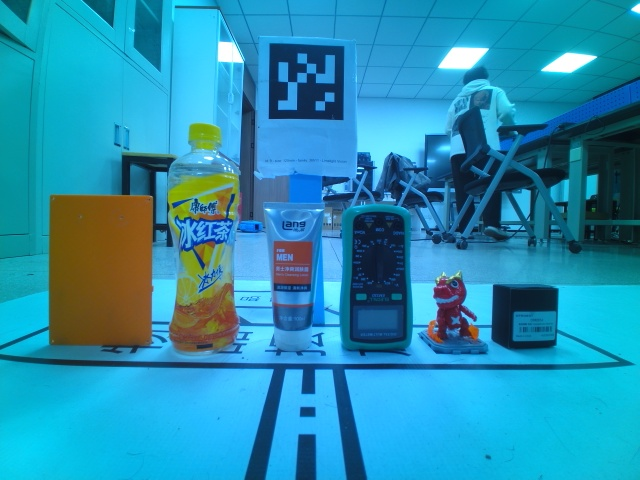banzi: (491, 280, 558, 351)
binghongcha: (418, 270, 488, 356)
dabao: (260, 201, 324, 352)
dianbiao: (166, 122, 242, 359)
hezi: (337, 202, 414, 354)
long: (46, 193, 153, 348)
